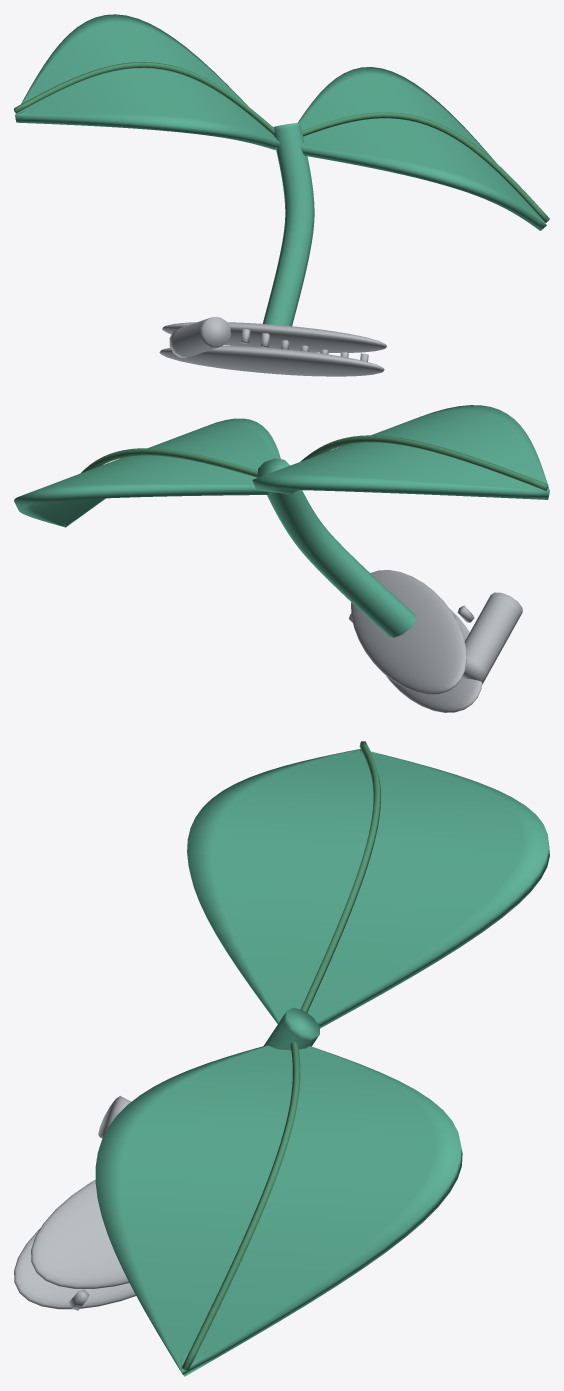
The model's file is Masculine-curly-top--headband-sprout.glb.
The picture shows the model from 3 angles, top to bottom: view 1: azimuth 30°, elevation 25°; view 2: azimuth 150°, elevation 25°; view 3: azimuth 270°, elevation 25°; orthographic projection. The views are drawn at different scales.
Visible parts, largest first — view 1: 226 extra / Accessory / mint226, 226 extra / Sprout / clip silver235, 226 extra / Sprout / leaf vein235; view 2: 226 extra / Accessory / mint226, 226 extra / Sprout / clip silver235, 226 extra / Sprout / leaf vein235; view 3: 226 extra / Accessory / mint226, 226 extra / Sprout / clip silver235, 226 extra / Sprout / leaf vein235.
Part boxes in pixels (box(x1,y1,x2,y2)): 226 extra / Accessory / mint226: box(15, 14, 546, 326); 226 extra / Sprout / clip silver235: box(159, 317, 386, 376); 226 extra / Sprout / leaf vein235: box(14, 62, 549, 222); 226 extra / Accessory / mint226: box(14, 405, 549, 637); 226 extra / Sprout / clip silver235: box(349, 570, 522, 712); 226 extra / Sprout / leaf vein235: box(80, 435, 548, 490); 226 extra / Accessory / mint226: box(95, 749, 549, 1376); 226 extra / Sprout / clip silver235: box(14, 1096, 135, 1310); 226 extra / Sprout / leaf vein235: box(181, 741, 380, 1371).
Size of the model in its own units: 0.2503 by 0.139 by 0.1612.
